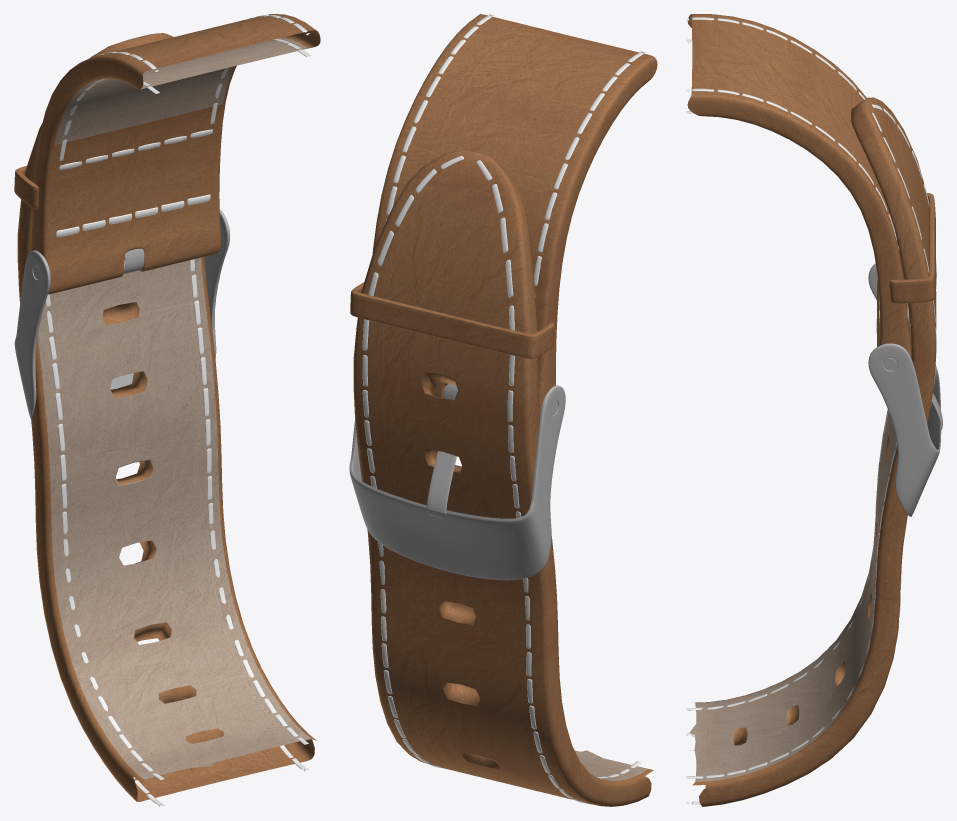
Rendered from saatAlt.glb.
3 views of the same model, side by side, from view 1: azimuth 30°, elevation 25°; view 2: azimuth 150°, elevation 25°; view 3: azimuth 270°, elevation 25° (orthographic). The views are drawn at different scales.
Visible parts, largest first — view 1: Saat Alt; view 2: Saat Alt; view 3: Saat Alt.
Boxes of the visible parts, x1,y1,x2,y2 form: Saat Alt: [14, 14, 320, 806]; Saat Alt: [349, 14, 657, 806]; Saat Alt: [686, 14, 942, 806].
Size of the model in its own units: 0.0261 by 0.0986 by 0.0321.
4 materials, 2 textured.
